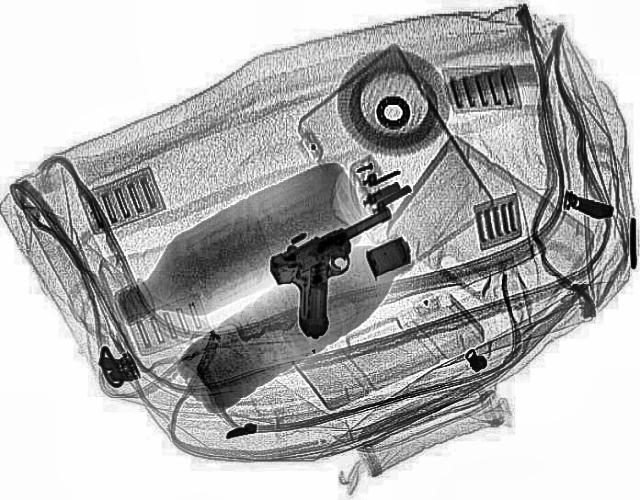Gun: (246, 202, 450, 340)
